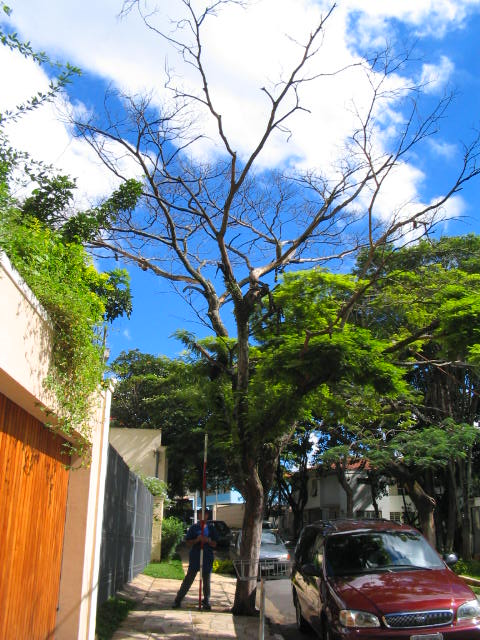stem: (228, 498, 276, 615)
stick: (192, 434, 211, 611)
tree: (57, 1, 477, 616)
